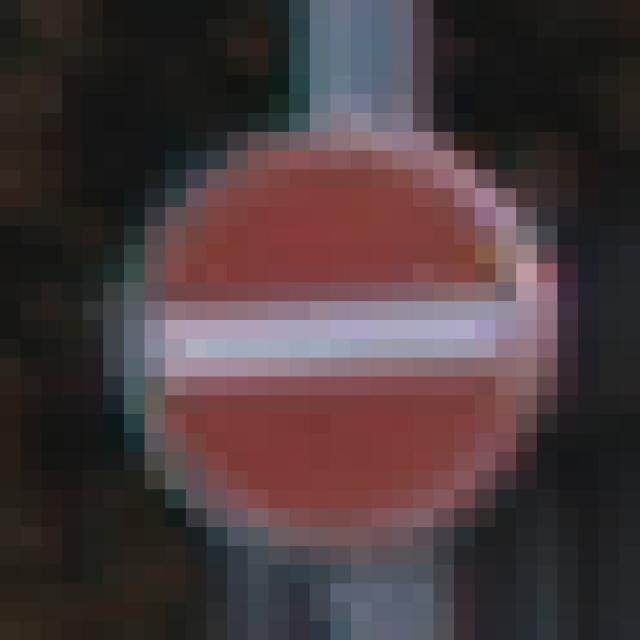No Entry: (125, 114, 538, 547)
